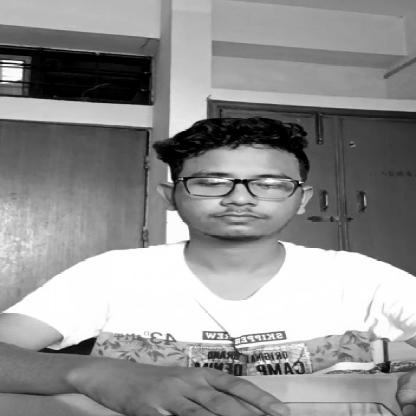Normal: (162, 142, 312, 247)
